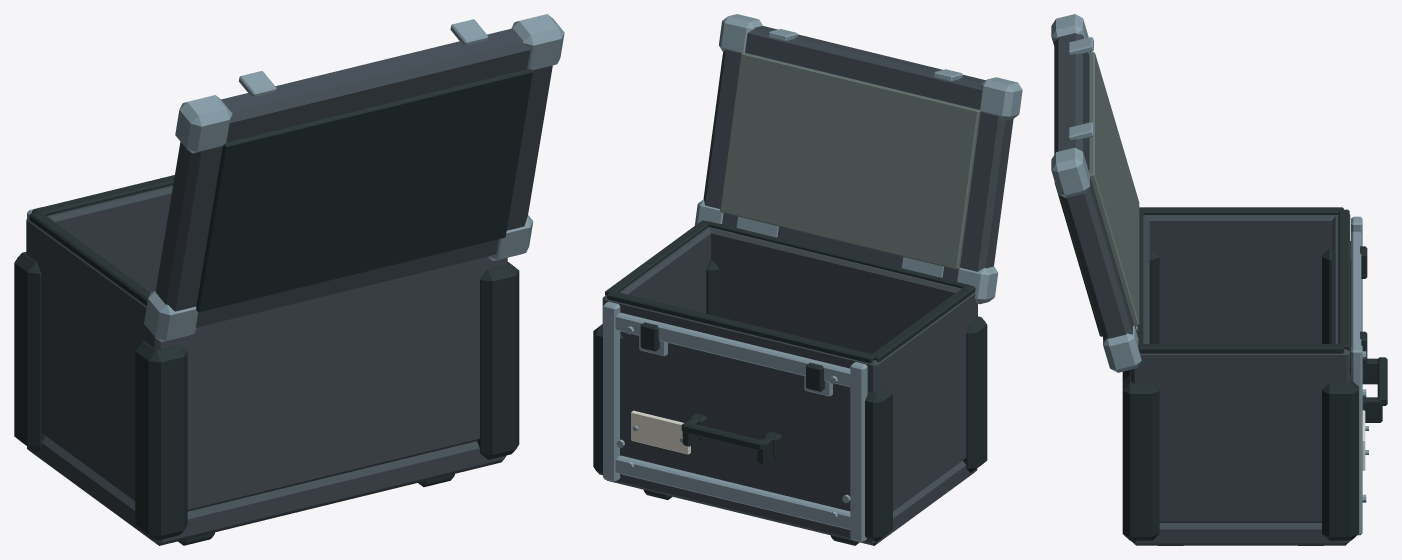
The model's file is reinforced_flight_case_opened.glb.
3 renders of one model, left to right at view 1: azimuth 30°, elevation 25°; view 2: azimuth 150°, elevation 25°; view 3: azimuth 270°, elevation 25°, orthographic. The views are drawn at different scales.
Parts seen in each view (by area): view 1: body_back_wall, moving_lid_inset, moving_lid_shell, corner_guard (×3), body_left_wall, body_floor, moving_lid_corner (×4), body_front_wall, gasket_side, gasket_front, moving_latch_hook (×2); view 2: moving_lid_inner_pad, body_front_wall, body_back_wall, moving_lid_shell, body_left_wall, corner_guard (×4), front_aluminum_rail (×2), front_aluminum_upright (×2), body_floor, body_right_wall, moving_lid_corner (×3), gasket_front (+5 smaller); view 3: body_right_wall, body_left_wall, corner_guard (×4), moving_lid_shell, moving_lid_inner_pad, body_floor, gasket_side (×2), moving_lid_corner (×3), gasket_front, body_front_wall, front_aluminum_rail, body_back_wall (+5 smaller).
Part boxes in pixels (box(x1,y1,x2,y2)): body_back_wall: box(148, 257, 505, 511); moving_lid_inset: box(196, 69, 532, 312); moving_lid_shell: box(155, 28, 552, 327); corner_guard (×3): box(14, 252, 519, 540); body_left_wall: box(26, 216, 172, 501); body_floor: box(27, 436, 505, 545); moving_lid_corner (×4): box(144, 14, 564, 342); body_front_wall: box(26, 185, 172, 291); gasket_side: box(29, 212, 150, 305); gasket_front: box(32, 175, 174, 215); moving_latch_hook (×2): box(239, 19, 488, 97); moving_lid_inner_pad: box(720, 52, 980, 269); body_front_wall: box(604, 295, 882, 511); body_back_wall: box(708, 227, 977, 353); moving_lid_shell: box(703, 26, 1013, 280); body_left_wall: box(864, 290, 972, 510); corner_guard (×4): box(593, 260, 987, 541); front_aluminum_rail (×2): box(615, 312, 867, 529); front_aluminum_upright (×2): box(603, 301, 867, 542); body_floor: box(607, 460, 977, 545); body_right_wall: box(602, 227, 710, 324); moving_lid_corner (×3): box(719, 14, 1022, 304); gasket_front: box(607, 291, 874, 363); body_right_wall: box(1131, 349, 1350, 522); body_left_wall: box(1143, 214, 1350, 343); corner_guard (×4): box(1122, 241, 1358, 540); moving_lid_shell: box(1054, 33, 1136, 340); moving_lid_inner_pad: box(1088, 52, 1139, 326); body_floor: box(1131, 523, 1349, 545); gasket_side (×2): box(1138, 207, 1343, 353); moving_lid_corner (×3): box(1051, 14, 1141, 372); gasket_front: box(1338, 209, 1349, 350); body_front_wall: box(1332, 216, 1350, 383); front_aluminum_rail: box(1351, 231, 1361, 373); body_back_wall: box(1136, 216, 1149, 383).
Bounding box in the file's own units: 1.25 × 1.58 × 1.18.
